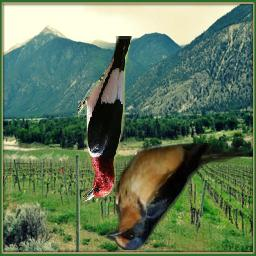Swallow: (107, 144, 250, 251)
Woodpecker: (79, 36, 134, 204)
